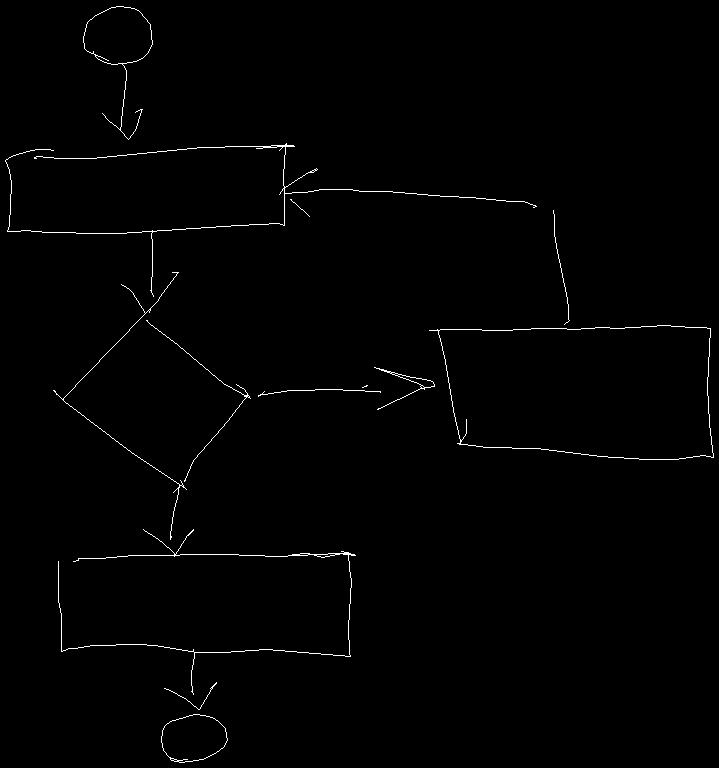arrow: (279, 168, 569, 324), (258, 367, 434, 409), (121, 230, 178, 313), (143, 484, 193, 556), (164, 649, 216, 709), (102, 63, 142, 139)
connection: (83, 6, 152, 64), (161, 714, 227, 762)
decision: (53, 309, 250, 489)
process: (429, 325, 713, 459), (58, 551, 355, 656), (5, 143, 294, 233)
